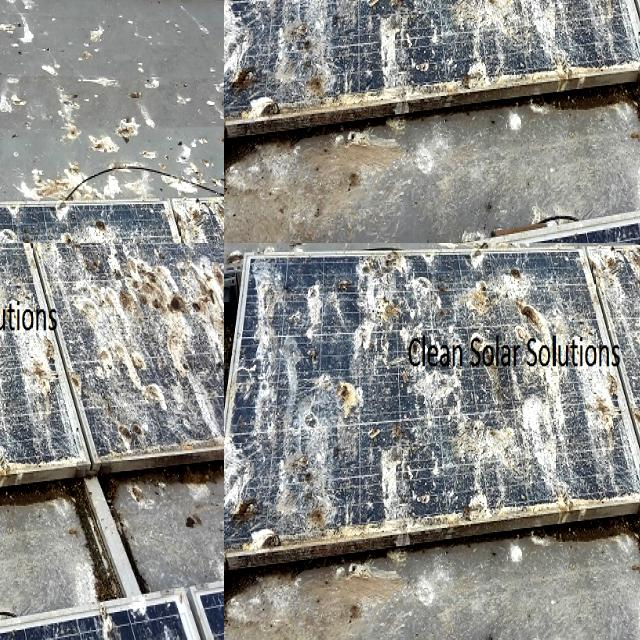bird: (224, 475, 291, 550), (368, 410, 416, 487), (297, 449, 335, 535), (251, 260, 295, 326), (472, 410, 522, 467), (510, 288, 555, 348), (355, 250, 417, 286), (590, 374, 620, 446), (332, 365, 365, 425), (363, 300, 401, 352), (452, 478, 497, 521), (300, 265, 325, 342), (458, 266, 495, 314), (588, 243, 640, 267), (493, 260, 538, 284)
dust: (108, 157, 224, 243)
hotspot: (0, 243, 33, 298)
shadow: (271, 0, 325, 34)
